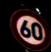Speed Limit -60-: (5, 4, 51, 52)
